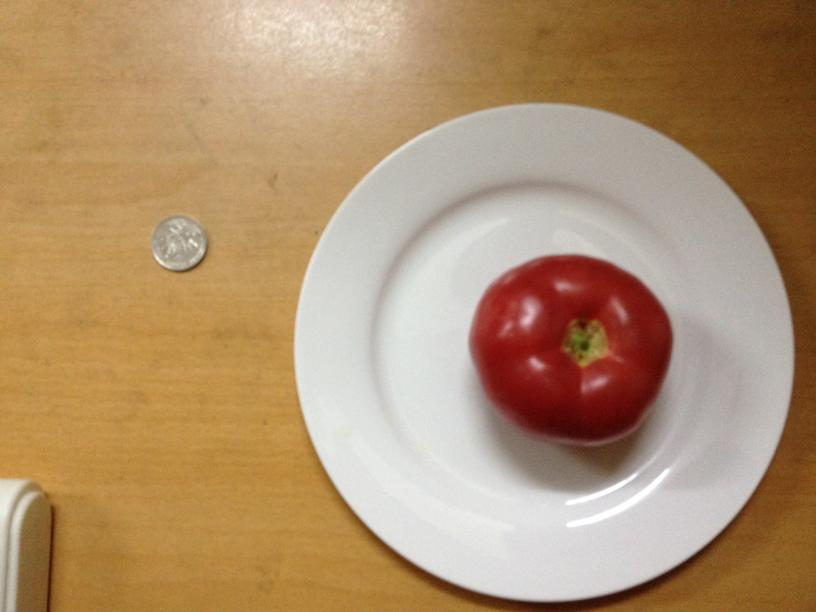coin: (144, 211, 208, 272)
tomato: (467, 251, 678, 445)
